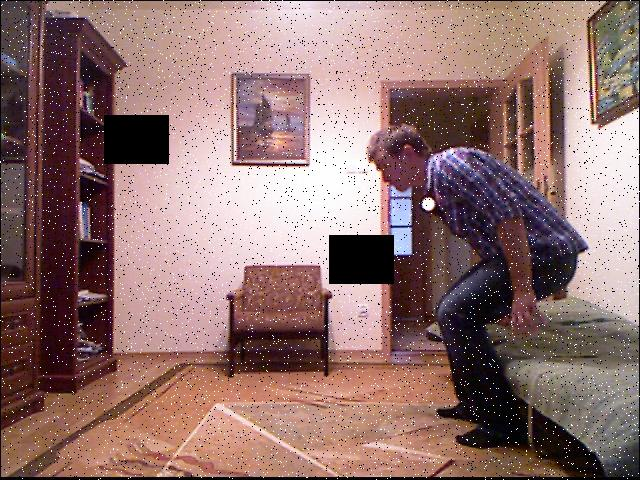sitting: (359, 106, 586, 451)
